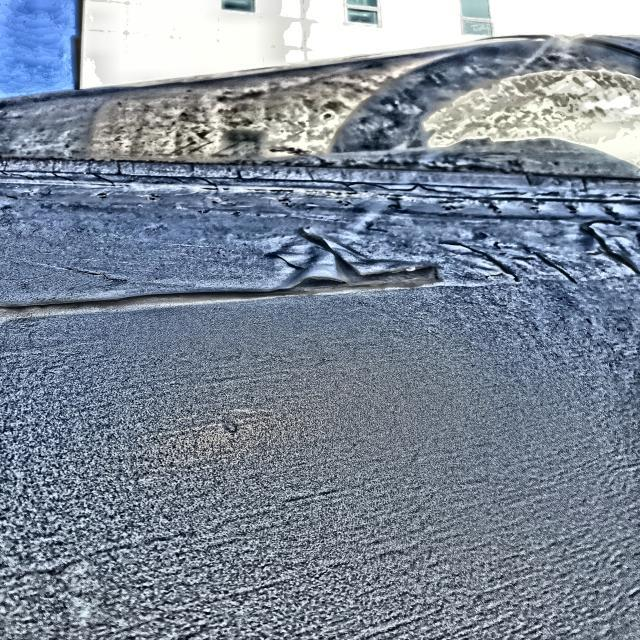crack: (452, 243, 579, 284), (51, 267, 130, 291)
